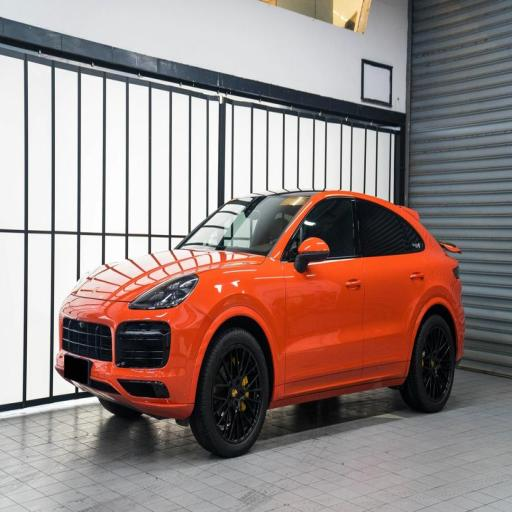Sedan-sDLz: (56, 189, 462, 459)
